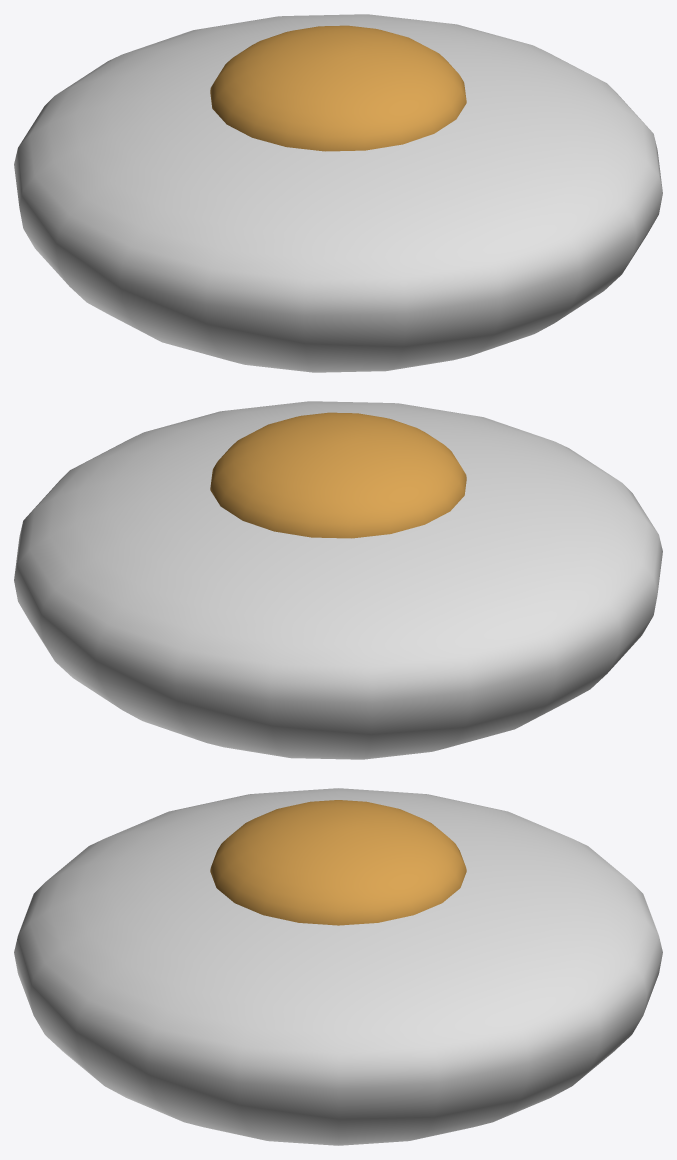
Rendered from eggInBowl_01.fbx.
3 renders of one model, top to bottom at view 1: azimuth 30°, elevation 25°; view 2: azimuth 150°, elevation 25°; view 3: azimuth 270°, elevation 25°, orthographic.
Parts seen in each view (by area): view 1: whiteEgg, eggYolk; view 2: whiteEgg, eggYolk; view 3: whiteEgg, eggYolk.
Part boxes in pixels (x1,y1,x2,y2): whiteEgg: (14,14,662,372); eggYolk: (210,25,466,151); whiteEgg: (14,401,662,759); eggYolk: (210,412,466,538); whiteEgg: (14,788,662,1145); eggYolk: (210,800,466,925).
Bounding box in the file's own units: 18.81 × 8.5 × 18.81.
